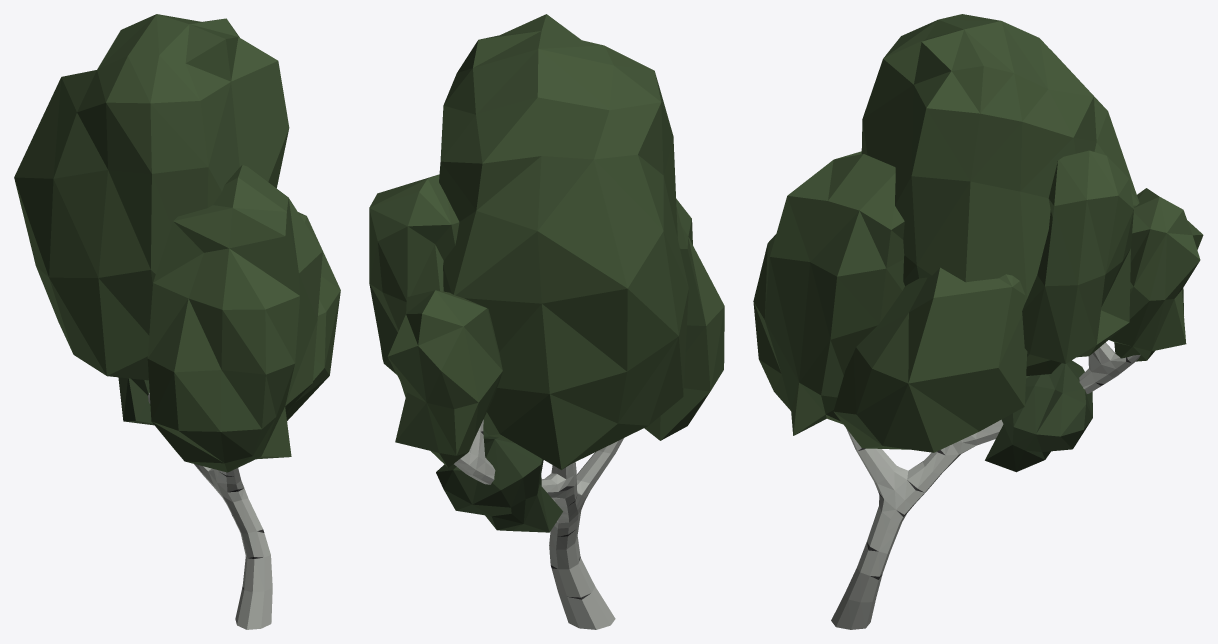
File: BirchTree_1.glb
3 views of the same model, side by side, from view 1: azimuth 30°, elevation 25°; view 2: azimuth 150°, elevation 25°; view 3: azimuth 270°, elevation 25° (orthographic). The views are drawn at different scales.
Visible parts, largest first — view 1: BirchTree_1; view 2: BirchTree_1; view 3: BirchTree_1.
Boxes of the visible parts, box(x1,y1,x2,y2) form: BirchTree_1: box(14, 14, 340, 629); BirchTree_1: box(369, 14, 724, 629); BirchTree_1: box(753, 14, 1203, 629).
Bounding box in the file's own units: 1.7 × 3.57 × 2.48.
